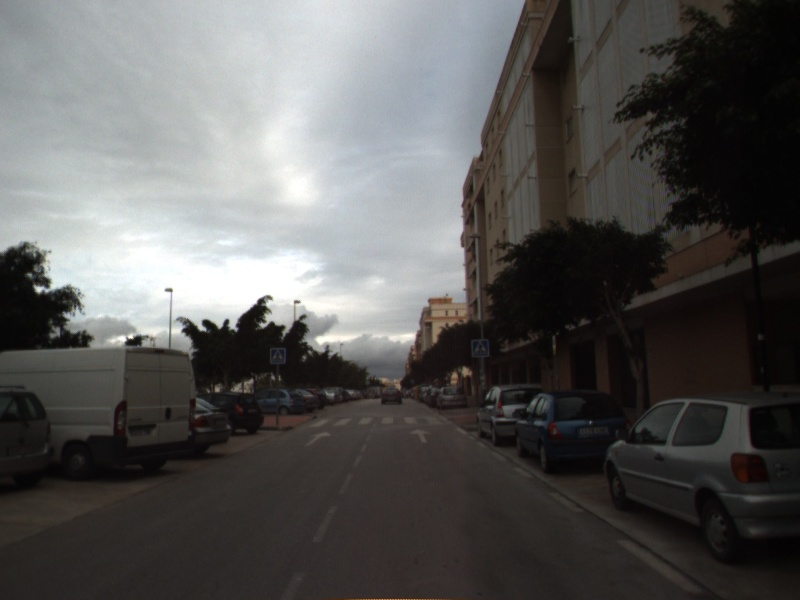STRAIGHT: (302, 429, 333, 448), (407, 427, 434, 444)
